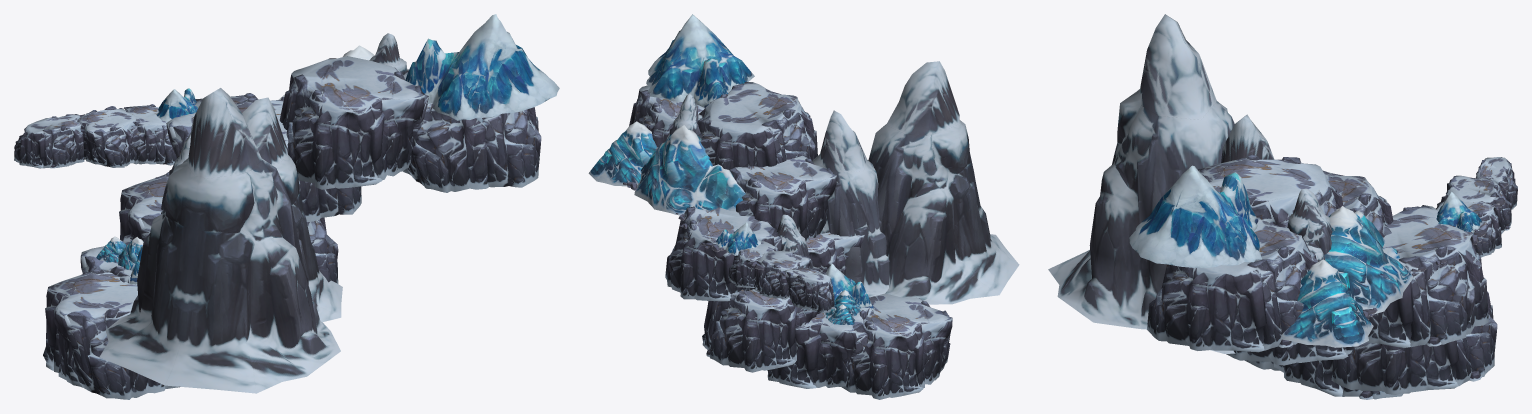
File: yanshi8_1.fbx
3 views of the same model, side by side, from view 1: azimuth 30°, elevation 25°; view 2: azimuth 150°, elevation 25°; view 3: azimuth 270°, elevation 25° (orthographic). The views are drawn at different scales.
Visible parts, largest first — view 1: yanshi8_1; view 2: yanshi8_1; view 3: yanshi8_1.
Boxes of the visible parts, <box> form: yanshi8_1: <box>14,14,559,399</box>; yanshi8_1: <box>588,14,1019,399</box>; yanshi8_1: <box>1048,14,1517,399</box>.
Bounding box in the file's own units: 6643 × 4689 × 5965.
